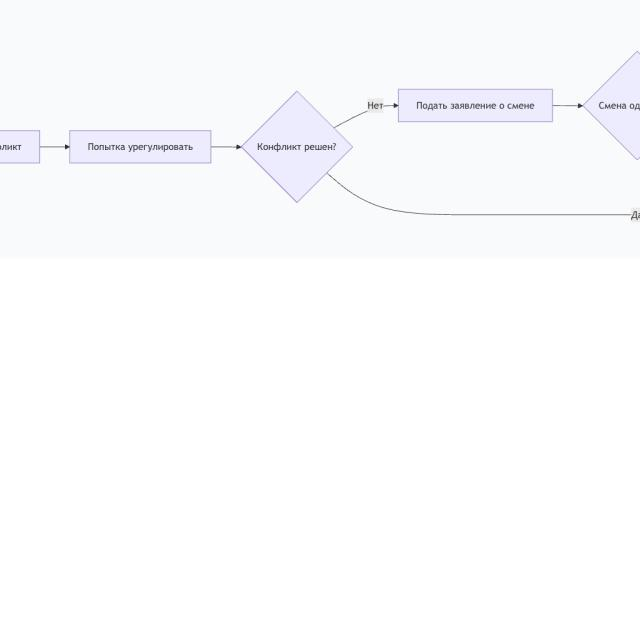arrow: (332, 103, 398, 129), (210, 143, 242, 152), (553, 101, 583, 110), (40, 142, 69, 150)
diamond: (242, 91, 353, 203)
rectangle: (398, 88, 553, 124), (70, 131, 211, 164)
text_region: (367, 98, 384, 113)
